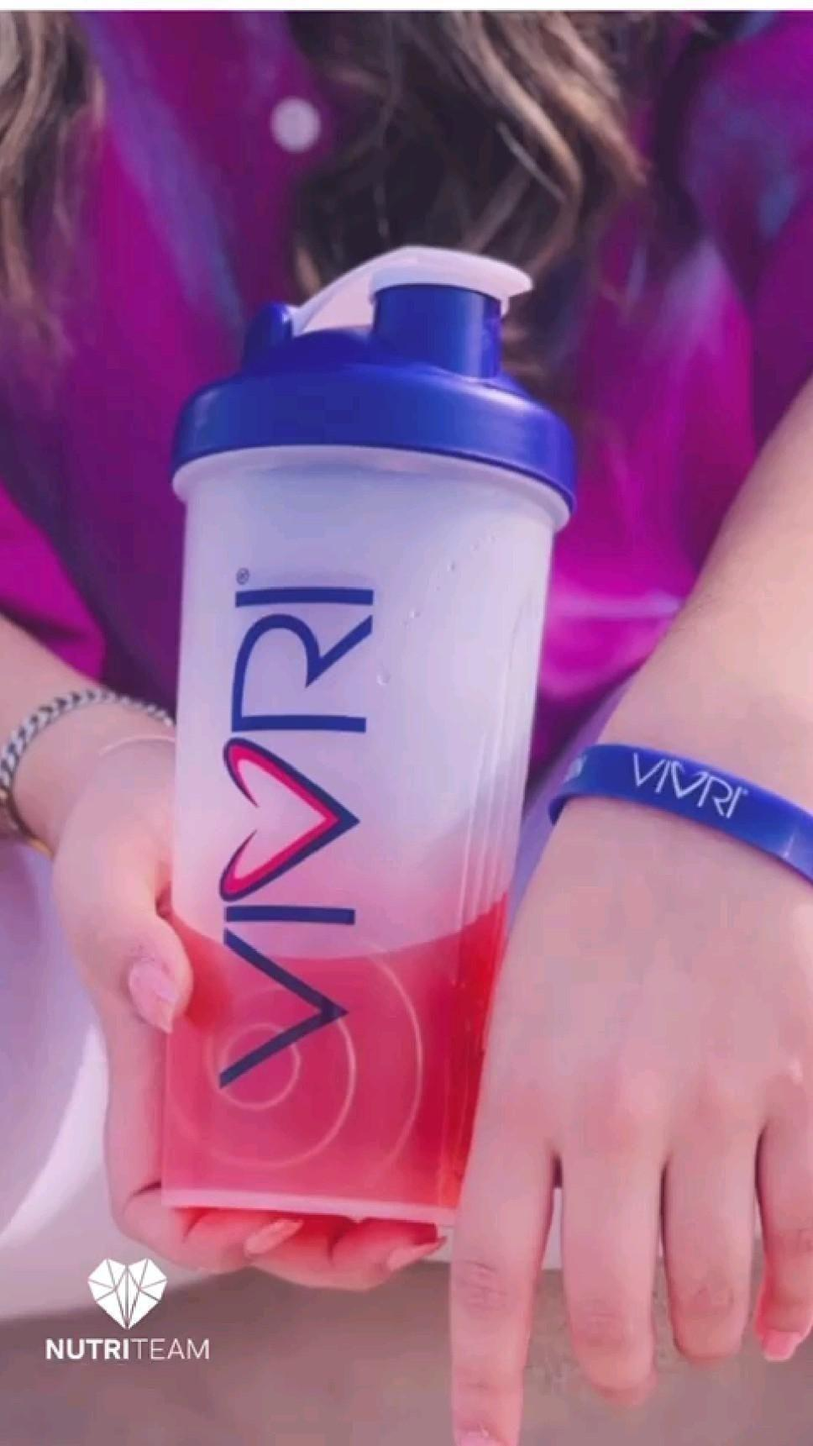gym bottle: (147, 243, 579, 1209)
